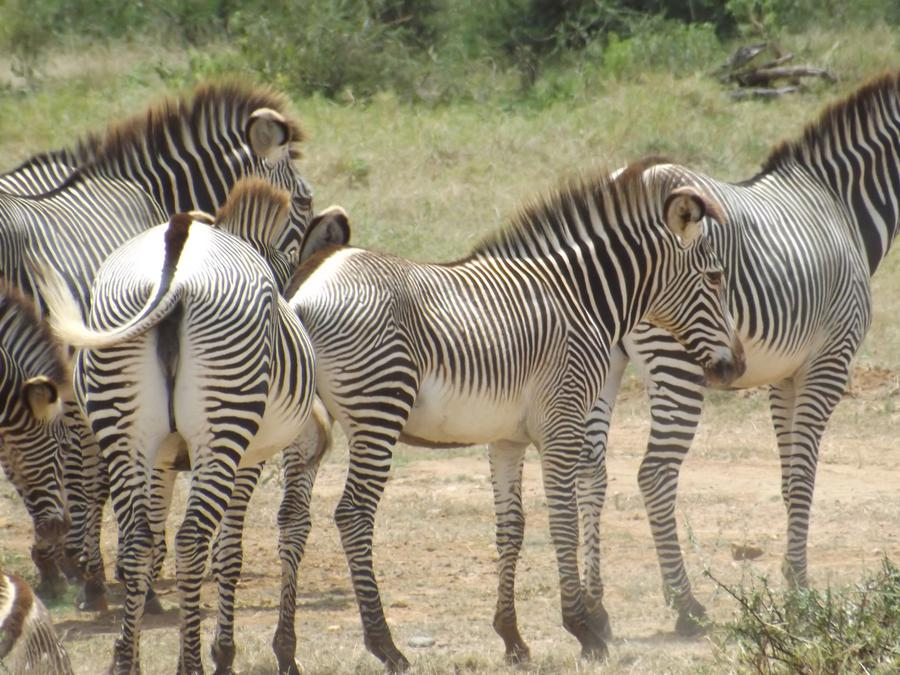zebra_grevys: (293, 241, 590, 431)
